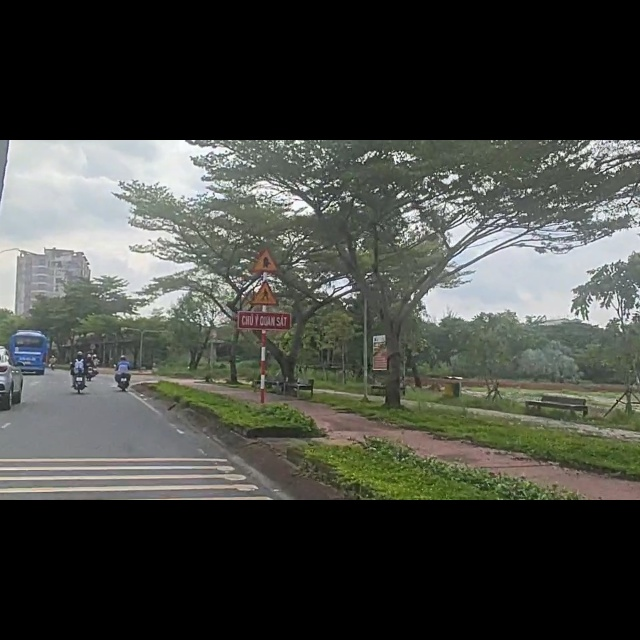bien_nguy_hiem: (247, 247, 283, 299), (249, 192, 281, 239)
